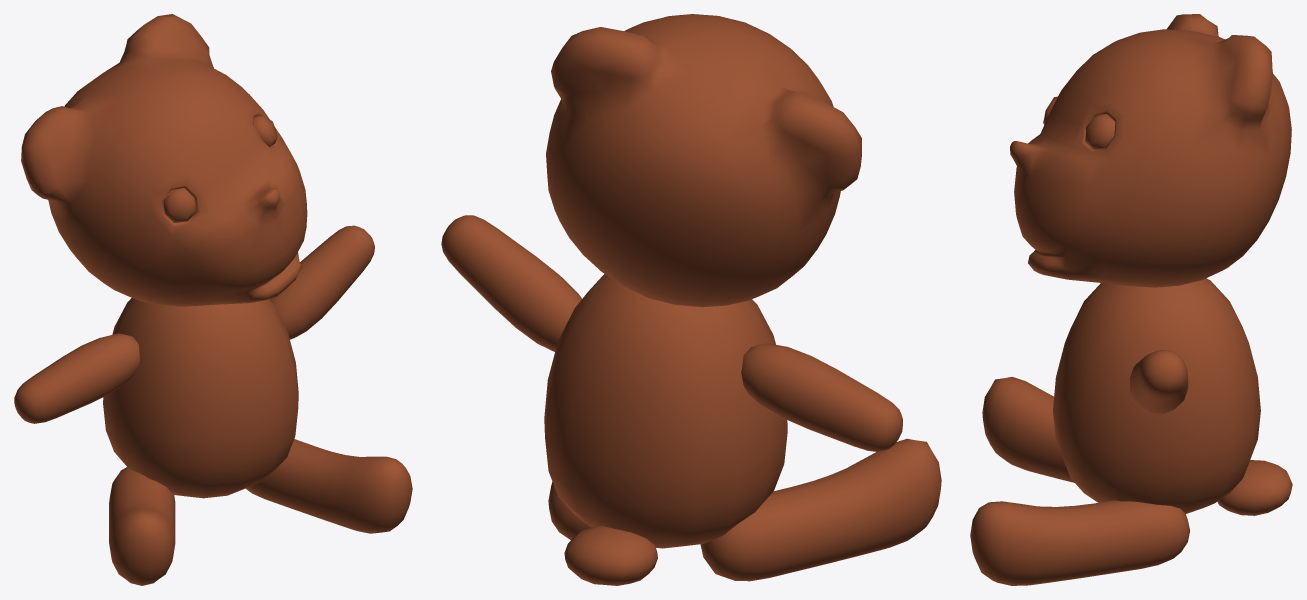
The model's file is bair2.fbx.
3 renders of one model, left to right at view 1: azimuth 30°, elevation 25°; view 2: azimuth 150°, elevation 25°; view 3: azimuth 270°, elevation 25°, orthographic. The views are drawn at different scales.
Parts seen in each view (by area): view 1: head, body, rightLeg, rightArm, leftLeg, leftArm; view 2: head, body, leftLeg, rightArm, leftArm, tail, rightLeg; view 3: head, body, rightLeg, leftLeg, leftArm, tail.
Part boxes in pixels (box(x1,y1,x2,y2)): head: box(21, 14, 307, 306); body: box(103, 298, 298, 498); rightLeg: box(246, 439, 412, 533); rightArm: box(14, 333, 139, 423); leftLeg: box(109, 467, 175, 585); leftArm: box(269, 225, 374, 339); head: box(546, 14, 861, 307); body: box(544, 274, 787, 548); leftLeg: box(700, 438, 941, 581); rightArm: box(741, 343, 902, 451); leftArm: box(441, 215, 581, 351); tail: box(564, 526, 657, 585); rightLeg: box(548, 482, 590, 539); head: box(1010, 14, 1291, 287); body: box(1053, 278, 1260, 513); rightLeg: box(970, 500, 1189, 585); leftLeg: box(982, 377, 1074, 482); leftArm: box(1129, 350, 1188, 414); tail: box(1217, 460, 1292, 515).
Size of the model in its own units: 294 by 358 by 213.
